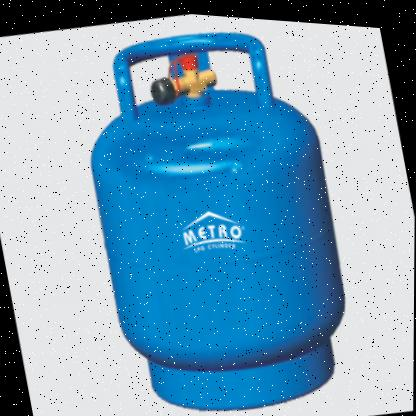gas-tank: (55, 3, 379, 415)
